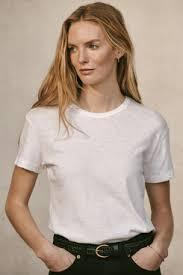Tshirt: (14, 97, 176, 245)
